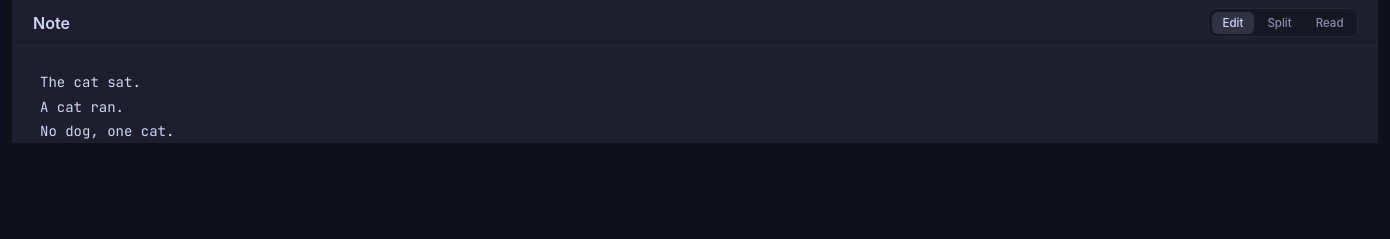
Replace (#547) › replaces the current match through the browser's undoable insert, and moves on
Press f
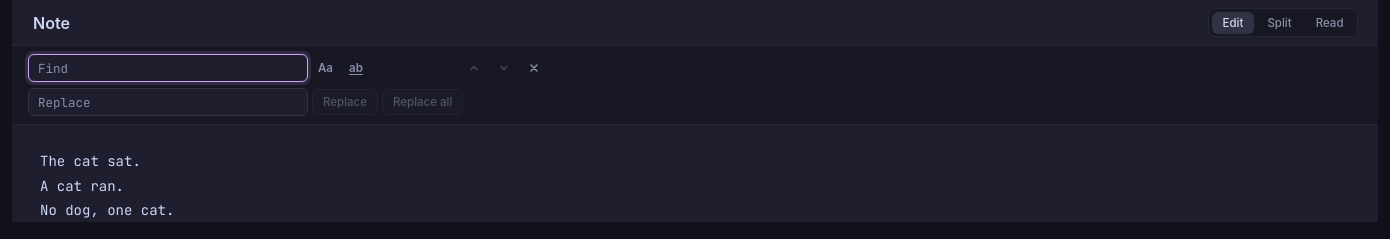
Type "cat" into the field labelled "Find" at (168, 68), box [28,54,308,82]
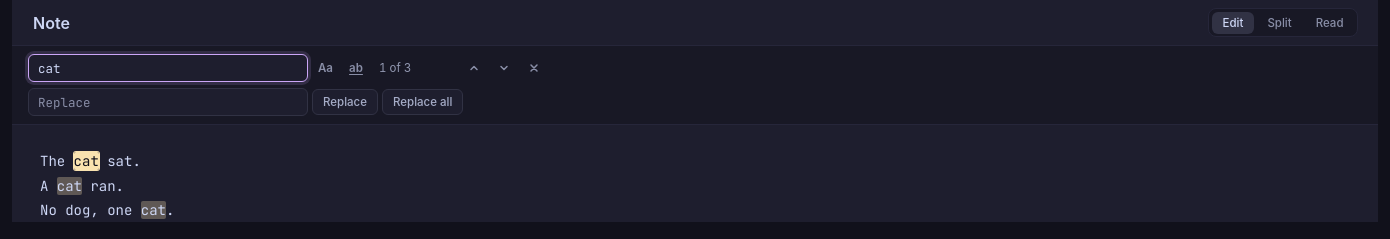
Type "lion" into the field named "Replace with" at (168, 102), box [28,88,308,116]
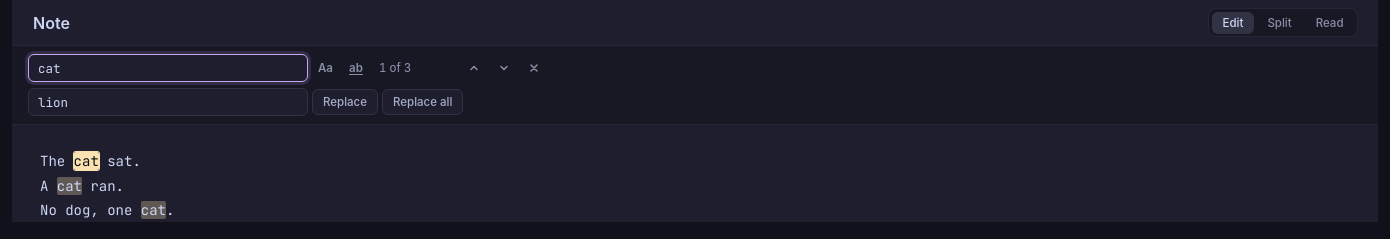
Click the button "Replace" at (345, 102), box [312,89,378,115]
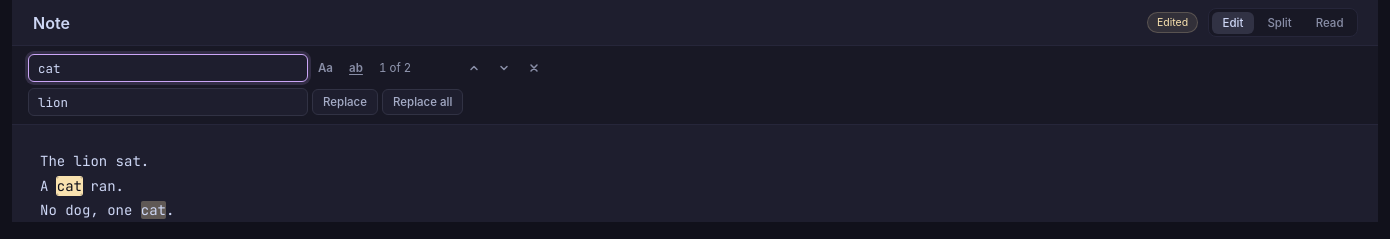
Expected: the text with class "find-bar-count" reads "1 of 2", [379,61,411,75]
